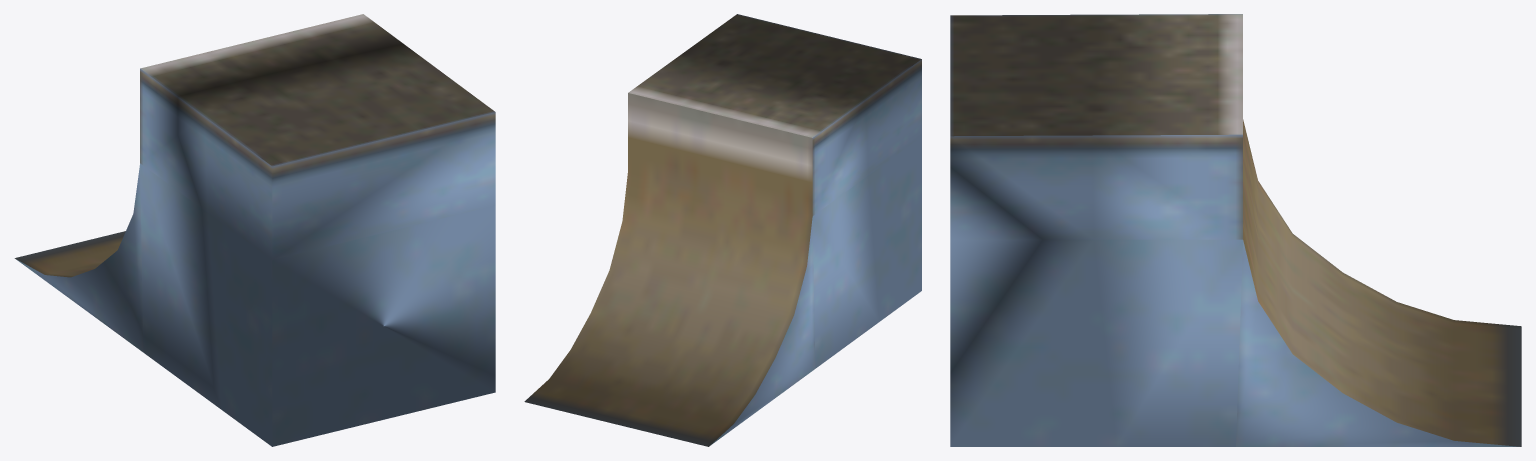
Rendered from parked.ico.obj.
The picture shows the model from 3 angles, left to right: view 1: azimuth 30°, elevation 25°; view 2: azimuth 150°, elevation 25°; view 3: azimuth 270°, elevation 25°; orthographic projection. The views are drawn at different scales.
Size of the model in its own units: 2.13 by 2.57 by 4.27.
Materials: 1 (1 with a texture image).
